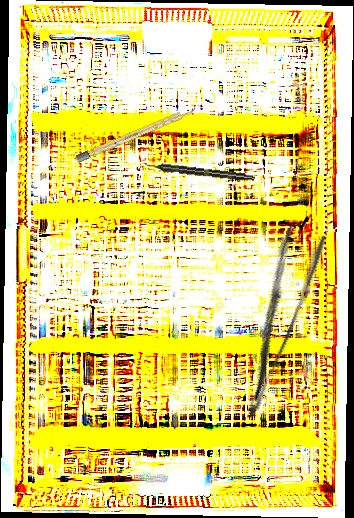Dressing Forceps: (216, 222, 331, 420)
Handpiece: (143, 160, 256, 183)
Scalpel Handle: (74, 104, 199, 164)
